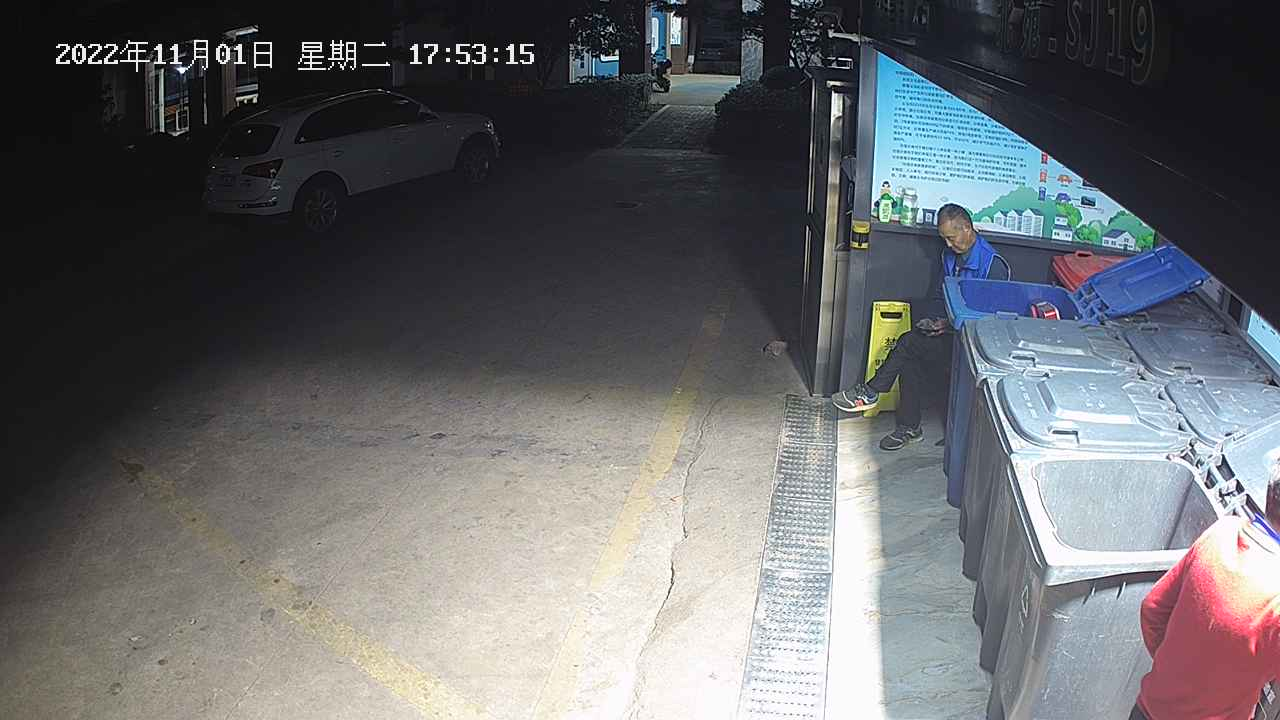worker: (830, 203, 1014, 451)
